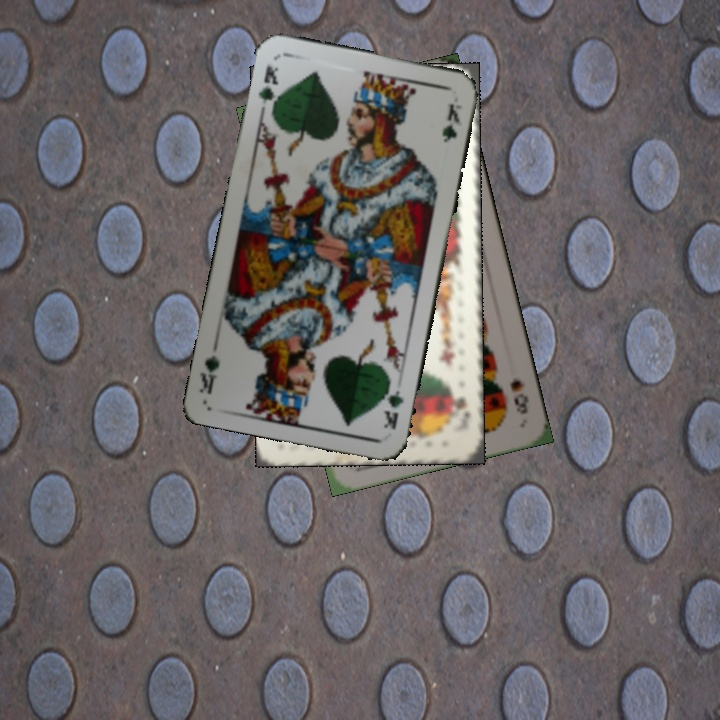GK: (379, 376, 406, 432), (254, 61, 281, 116)
S8: (506, 375, 531, 417)
SK: (448, 382, 473, 419)
